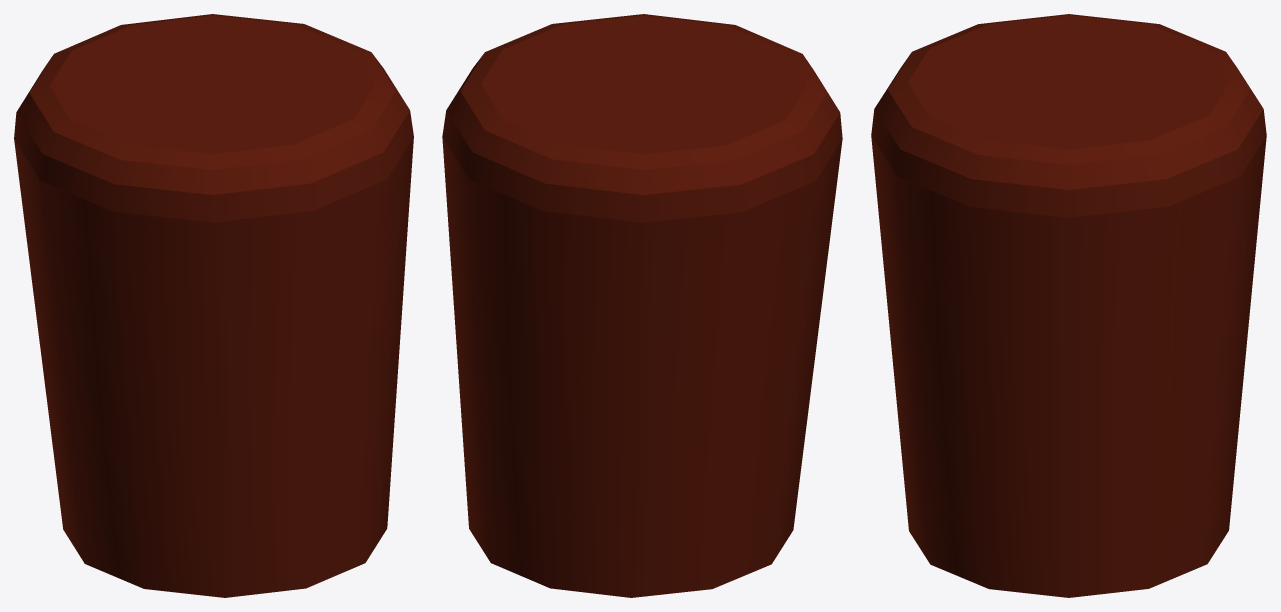
Rendered from Wood_Chair.fbx.
3 views of the same model, side by side, from view 1: azimuth 30°, elevation 25°; view 2: azimuth 150°, elevation 25°; view 3: azimuth 270°, elevation 25° (orthographic).
Parts seen in each view (by area): view 1: Bottle.001; view 2: Bottle.001; view 3: Bottle.001.
Boxes of the visible parts, x1,y1,x2,y2 form: Bottle.001: (14, 14, 413, 597); Bottle.001: (442, 14, 842, 597); Bottle.001: (871, 14, 1266, 597).
Size of the model in its own units: 49.5 by 49.49 by 61.29.
